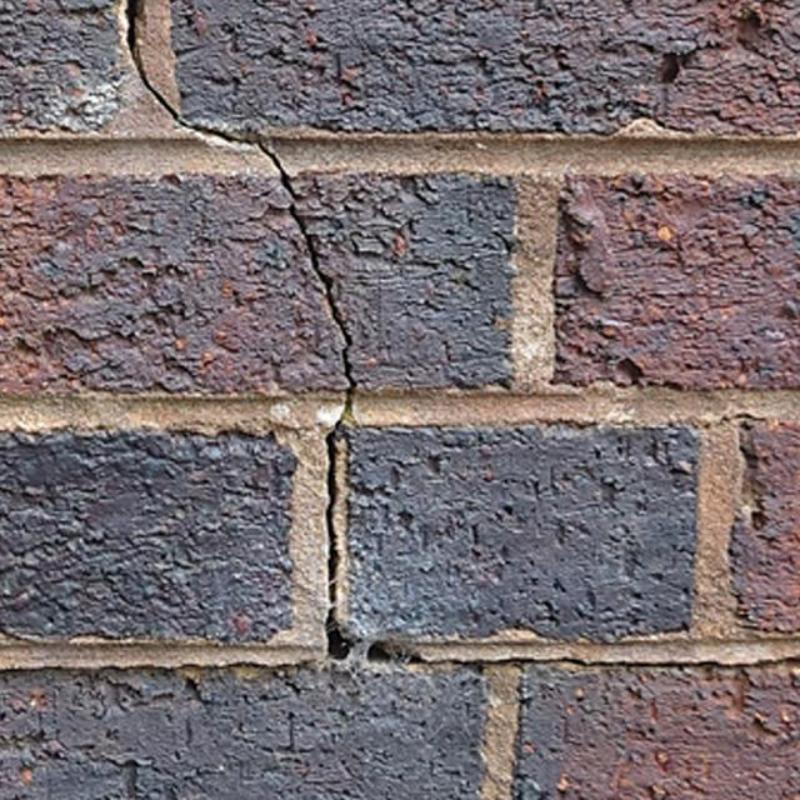pothole: (289, 204, 362, 660), (124, 1, 253, 145), (367, 643, 799, 679), (258, 144, 307, 202)
